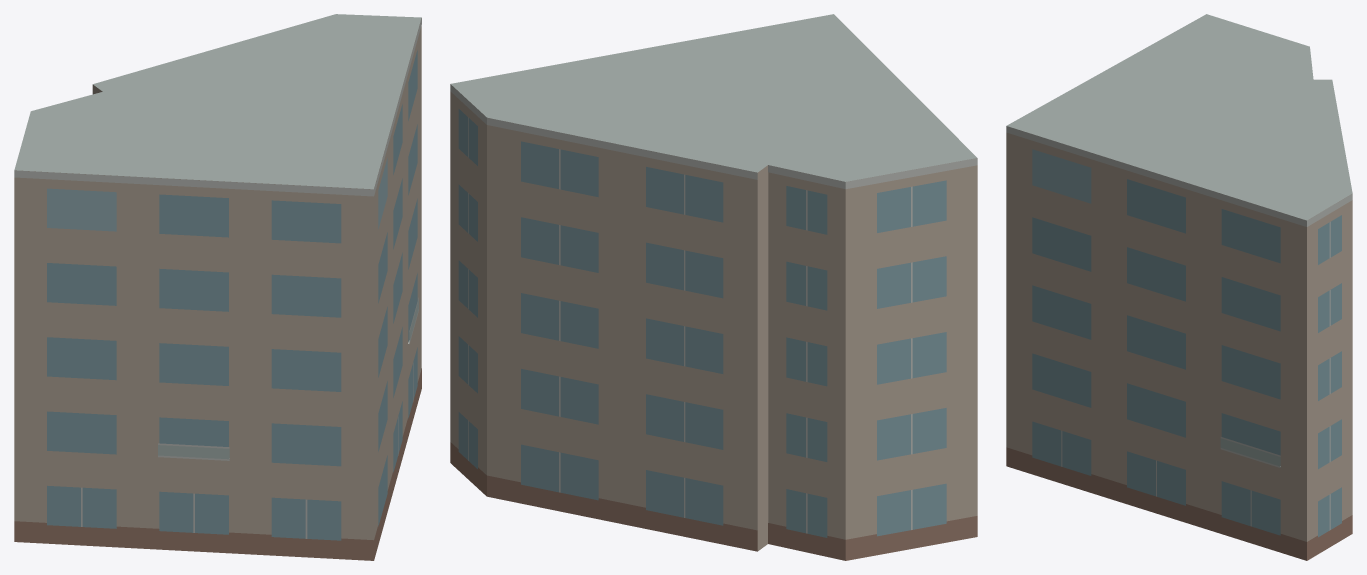
File: survey-upis-32982473.glb
3 renders of one model, left to right at view 1: azimuth 30°, elevation 25°; view 2: azimuth 150°, elevation 25°; view 3: azimuth 270°, elevation 25°, orthographic. The views are drawn at different scales.
Parts seen in each view (by area): view 1: survey-upis-32982473.tmp; view 2: survey-upis-32982473.tmp; view 3: survey-upis-32982473.tmp.
Part boxes in pixels (x1,y1,x2,y2): survey-upis-32982473.tmp: [14, 14, 421, 560]; survey-upis-32982473.tmp: [450, 14, 977, 560]; survey-upis-32982473.tmp: [1006, 14, 1352, 560].
Size of the model in its own units: 16.44 by 12.62 by 11.65.
